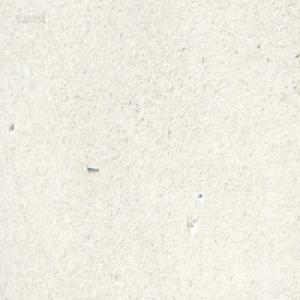Nail: (86, 162, 99, 171)
